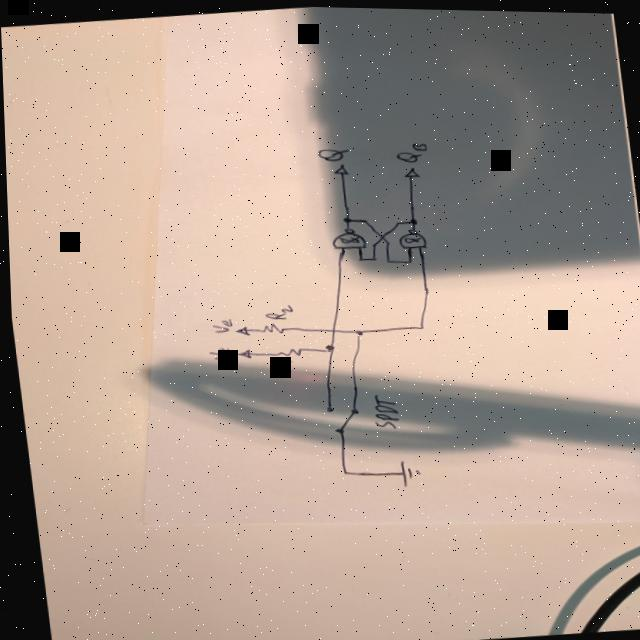crossover: (324, 326, 334, 333), (376, 232, 383, 239)
ground: (390, 457, 418, 487)
junction: (332, 466, 348, 476), (318, 342, 333, 352), (338, 215, 350, 222), (404, 217, 414, 224), (350, 328, 360, 335), (357, 216, 367, 223), (389, 218, 399, 224), (412, 323, 421, 329), (402, 257, 410, 263), (353, 255, 361, 261), (380, 258, 388, 263), (366, 255, 374, 260), (367, 241, 374, 246), (381, 239, 388, 244)
resistor: (269, 345, 302, 359), (254, 321, 282, 335)
source: (230, 346, 250, 360), (229, 324, 246, 337)
switch: (319, 404, 356, 433)
terminal: (397, 164, 420, 178), (327, 162, 348, 175)
text: (365, 391, 399, 430), (389, 139, 429, 163), (312, 144, 347, 162), (259, 302, 291, 320), (205, 317, 229, 333), (263, 357, 291, 370), (203, 345, 226, 360)
